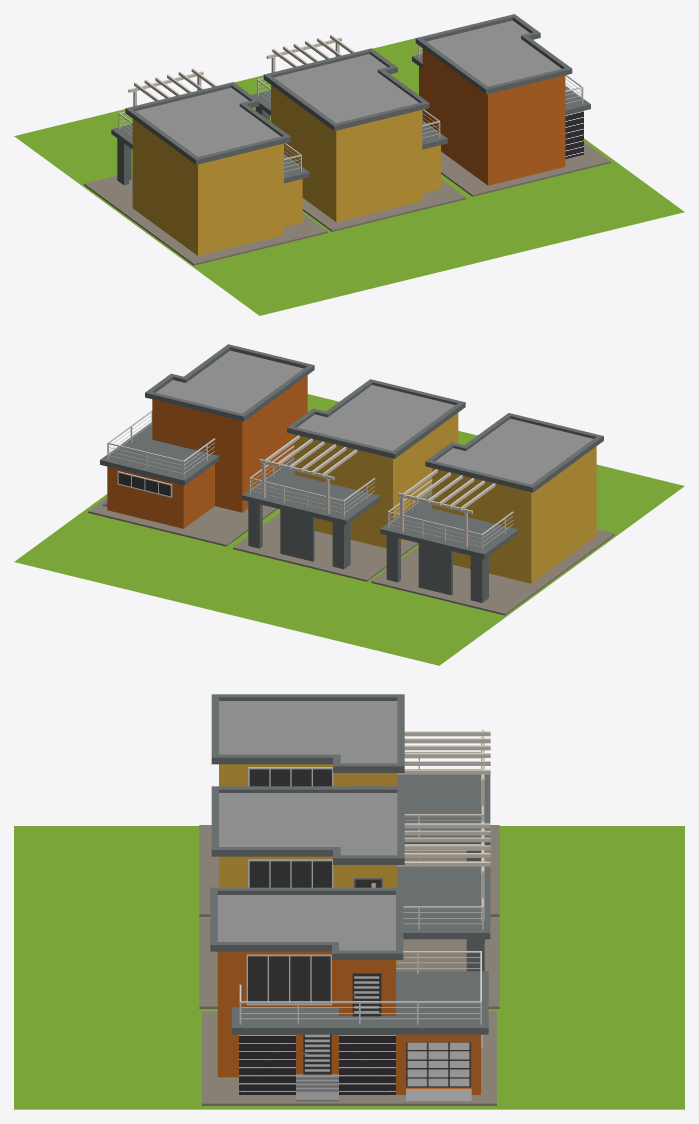
Rendered from remix-residential-row.glb.
3 views of the same model, one above another, from view 1: azimuth 30°, elevation 25°; view 2: azimuth 150°, elevation 25°; view 3: azimuth 270°, elevation 25° (orthographic). The views are drawn at different scales.
Visible parts, largest first — view 1: Building_House_01_color01_Cube.024 (×2), Natures_Grass Tile_Plane.010, Building_House_02_color01_Cube.029; view 2: Building_House_01_color01_Cube.024 (×2), Natures_Grass Tile_Plane.010, Building_House_02_color01_Cube.029; view 3: Natures_Grass Tile_Plane.010, Building_House_01_color01_Cube.024 (×2), Building_House_02_color01_Cube.029.
Part boxes in pixels (left/top/right/bottom): Building_House_01_color01_Cube.024 (×2): left=84, top=35, right=465, bottom=265; Natures_Grass Tile_Plane.010: left=14, top=38, right=684, bottom=315; Building_House_02_color01_Cube.029: left=412, top=14, right=610, bottom=196; Building_House_01_color01_Cube.024 (×2): left=233, top=379, right=614, bottom=615; Natures_Grass Tile_Plane.010: left=14, top=394, right=684, bottom=665; Building_House_02_color01_Cube.029: left=88, top=344, right=314, bottom=546; Natures_Grass Tile_Plane.010: left=14, top=826, right=684, bottom=1109; Building_House_01_color01_Cube.024 (×2): left=199, top=694, right=499, bottom=1008; Building_House_02_color01_Cube.029: left=202, top=887, right=496, bottom=1105.
Size of the model in its own units: 40 by 9.05 by 40.
3 materials, 3 textured.
